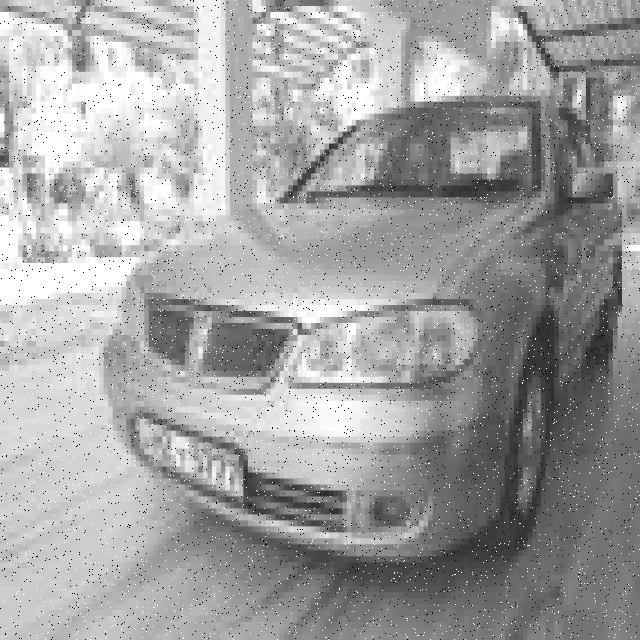car: (102, 65, 626, 557)
